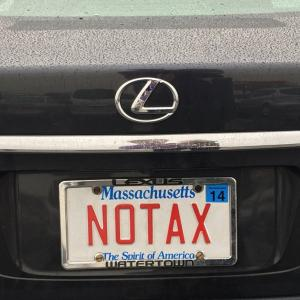Vehicle-registration-plate: (61, 178, 237, 273)
